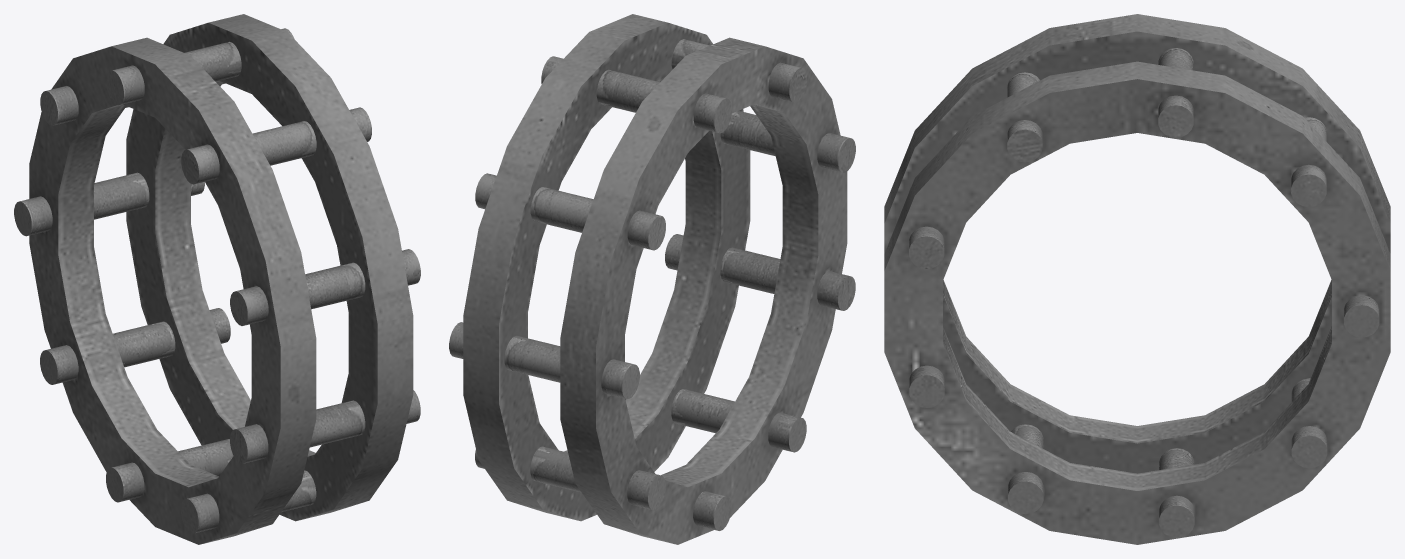
The model's file is pipe14.FBX.
3 views of the same model, side by side, from view 1: azimuth 30°, elevation 25°; view 2: azimuth 150°, elevation 25°; view 3: azimuth 270°, elevation 25° (orthographic).
Parts seen in each view (by area): view 1: pipe14; view 2: pipe14; view 3: pipe14.
Part boxes in pixels (x1,y1,x2,y2): pipe14: (14, 14, 420, 544); pipe14: (449, 14, 855, 544); pipe14: (884, 14, 1390, 544).
Size of the model in its own units: 5.72 by 14.62 by 14.4.
